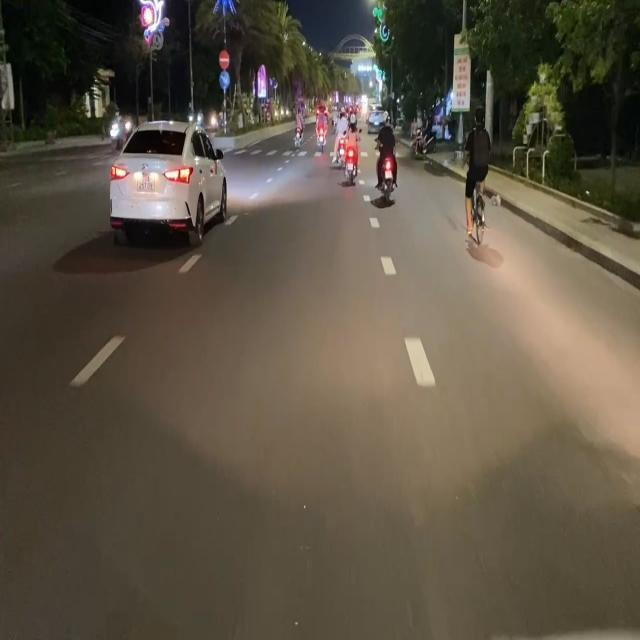walk-crossing: (235, 146, 332, 159)
